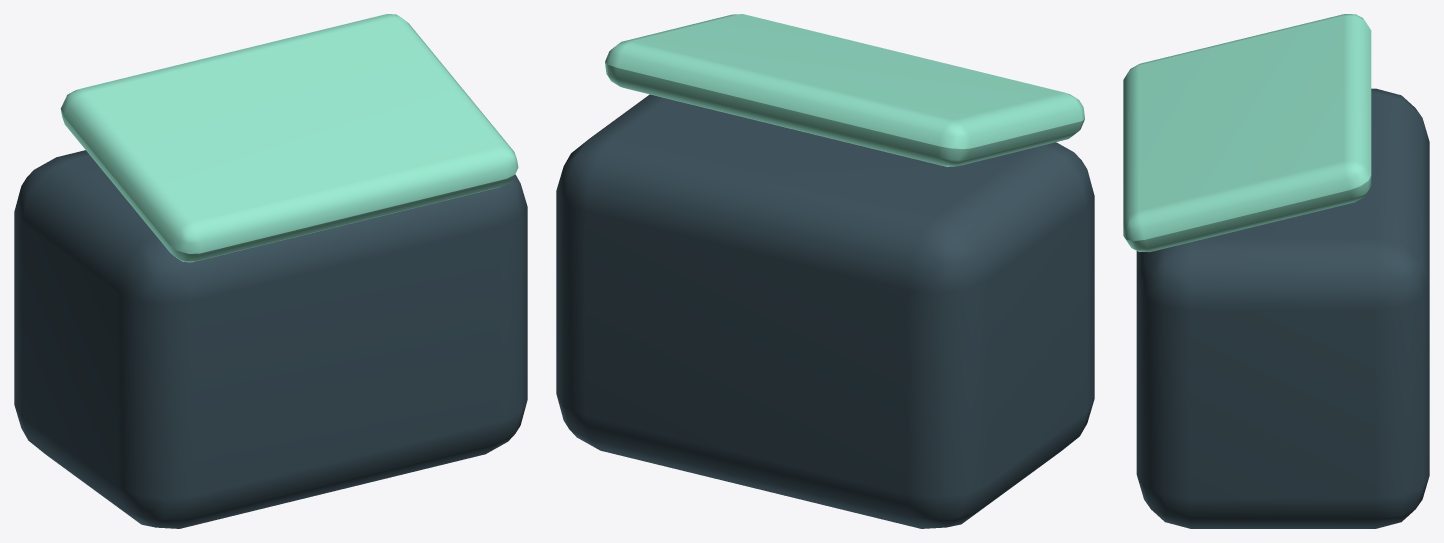
File: console.glb
3 views of the same model, side by side, from view 1: azimuth 30°, elevation 25°; view 2: azimuth 150°, elevation 25°; view 3: azimuth 270°, elevation 25° (orthographic). The views are drawn at different scales.
Visible parts, largest first — view 1: ConsoleBase, ConsoleScreen; view 2: ConsoleBase, ConsoleScreen; view 3: ConsoleBase, ConsoleScreen.
Part boxes in pixels (x1,y1,x2,y2): ConsoleBase: (14,150,527,528); ConsoleScreen: (60,14,518,262); ConsoleBase: (556,94,1094,528); ConsoleScreen: (605,14,1084,166); ConsoleBase: (1136,88,1429,528); ConsoleScreen: (1123,14,1371,252).
Bounding box in the file's own units: 1 × 0.8891 × 0.6803.
